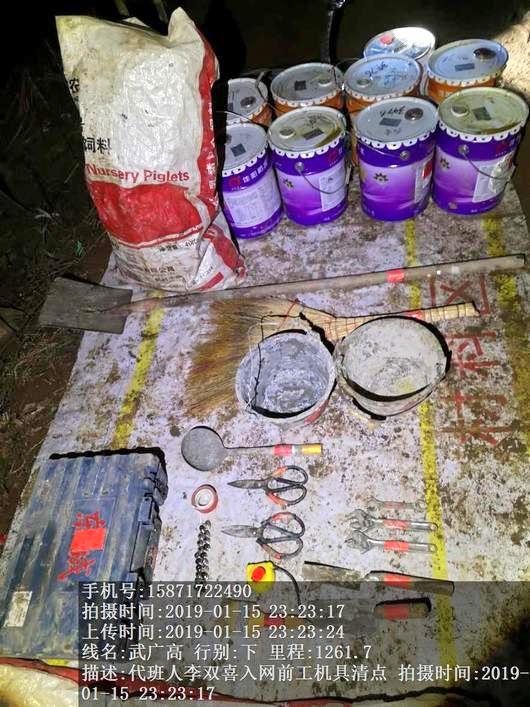SNT: (336, 317, 446, 411), (233, 340, 330, 433)
TQ: (36, 272, 412, 334)
